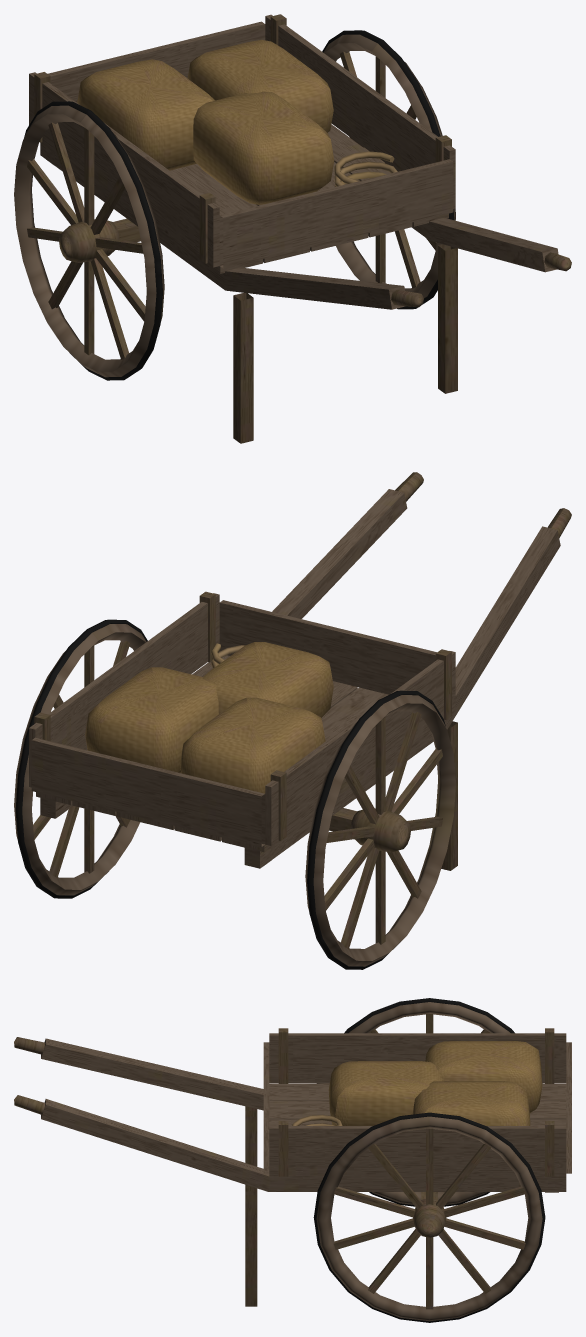
The model's file is handkarre.glb.
3 views of the same model, one above another, from view 1: azimuth 30°, elevation 25°; view 2: azimuth 150°, elevation 25°; view 3: azimuth 270°, elevation 25° (orthographic). The views are drawn at different scales.
Parts seen in each view (by area): view 1: handcart_mesh; view 2: handcart_mesh; view 3: handcart_mesh.
Part boxes in pixels (x1,y1,x2,y2): handcart_mesh: (14,14,571,443); handcart_mesh: (14,472,571,969); handcart_mesh: (14,998,571,1322).
Size of the model in its own units: 1.32 by 0.9748 by 2.35.
1 material, 1 textured.
